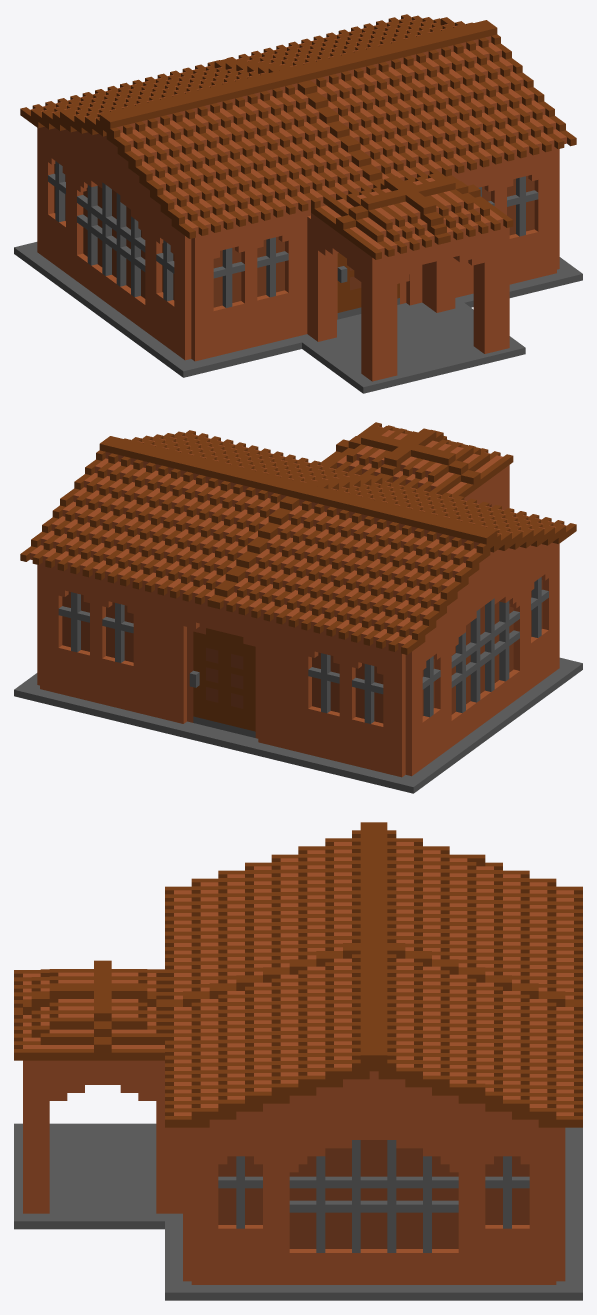
Rendered from bld_house5c.obj.
3 views of the same model, one above another, from view 1: azimuth 30°, elevation 25°; view 2: azimuth 150°, elevation 25°; view 3: azimuth 270°, elevation 25° (orthographic). The views are drawn at different scales.
Bounding box in the file's own units: 64 × 30 × 64.
